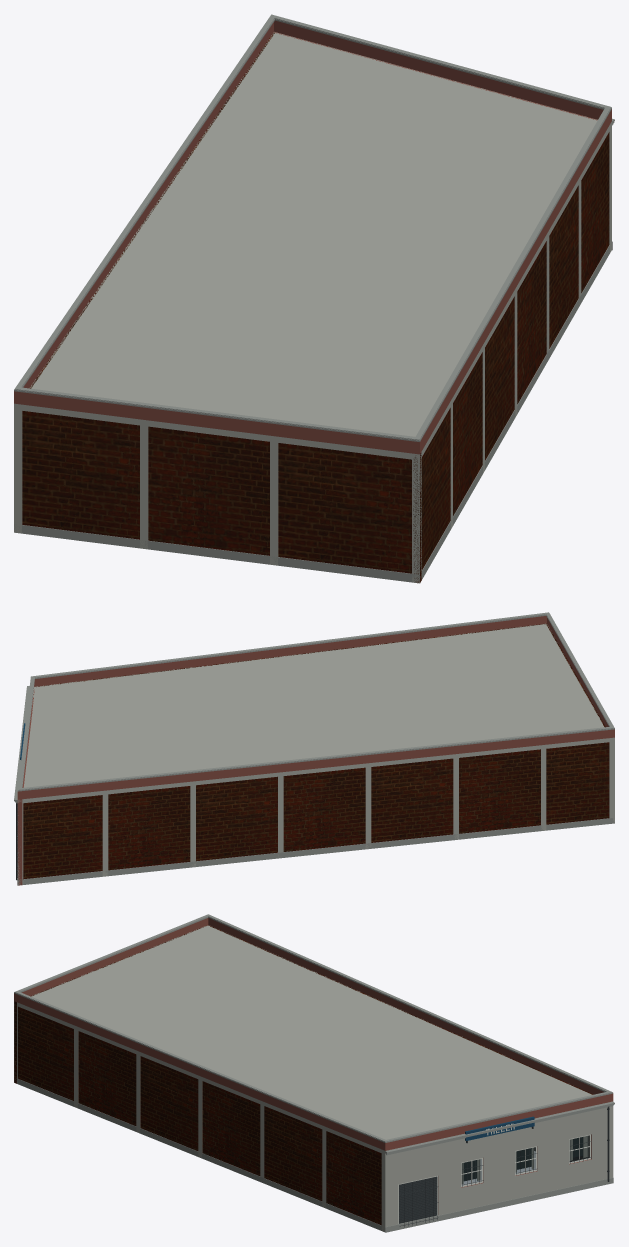
File: building.glb
The picture shows the model from 3 angles, top to bottom: view 1: azimuth 30°, elevation 25°; view 2: azimuth 150°, elevation 25°; view 3: azimuth 270°, elevation 25°; orthographic projection. The views are drawn at different scales.
Parts seen in each view (by area): view 1: roof/main:0/roof_slab#0001, main:0/edge0/z0/main:0/edge0/z0/wall_0_0/core0, main:0/edge1/z0/main:0/edge1/z0/wall_0_0/core0, roof/main:0/parapet#0001, roof/main:0/parapet_cap#0002, main:0/edge0/z0/plinth#0001, roof/main:0/parapet_cap#0001, main:0/edge0/z0/main:0/edge0/z0/beam_0_0/core0, main:0/edge1/z0/plinth#0001, main:0/edge1/z0/main:0/edge1/z0/beam_0_0/core0, main:0/edge0/z0/main:0/edge0/z0/column_0_0, main:0/edge0/z0/main:0/edge0/z0/column_3_0 (+3 smaller); view 2: roof/main:0/roof_slab#0001, main:0/edge3/z0/main:0/edge3/z0/wall_0_0/core0, roof/main:0/parapet#0001, roof/main:0/parapet_cap#0002, main:0/edge3/z0/plinth#0001, main:0/edge3/z0/main:0/edge3/z0/beam_0_0/core0, roof/main:0/parapet_cap#0001, main:0/edge3/z0/main:0/edge3/z0/column_2_0, main:0/edge3/z0/main:0/edge3/z0/column_5_0, main:0/edge3/z0/main:0/edge3/z0/column_7_0, main:0/edge3/z0/main:0/edge3/z0/column_6_0, main:0/edge3/z0/main:0/edge3/z0/column_3_0 (+3 smaller); view 3: roof/main:0/roof_slab#0001, main:0/edge1/z0/main:0/edge1/z0/wall_0_0/core0, roof/main:0/parapet#0001, main:0/edge2/z0/main:0/edge2/z0/coating_0_0_0/clip12, main:0/edge2/z0/main:0/edge2/z0/coating_0_0_0/clip2, roof/main:0/parapet_cap#0002, main:0/edge1/z0/plinth#0001, roof/main:0/parapet_cap#0001, main:0/edge1/z0/main:0/edge1/z0/beam_0_0/core0, main:0/edge2/z0/plinth#0001, main:0/edge2/z0/proj_cornice_00/cornice_drip#0001, main:0/edge2/z0/main:0/edge2/z0/coating_0_0_0/clip8 (+7 smaller).
Boxes of the visible parts, x1,y1,x2,y2 form: roof/main:0/roof_slab#0001: (14, 32, 611, 458); main:0/edge0/z0/main:0/edge0/z0/wall_0_0/core0: (22, 411, 411, 573); main:0/edge1/z0/main:0/edge1/z0/wall_0_0/core0: (422, 132, 609, 569); roof/main:0/parapet#0001: (14, 20, 611, 454); roof/main:0/parapet_cap#0002: (14, 14, 611, 440); main:0/edge0/z0/plinth#0001: (14, 524, 419, 582); roof/main:0/parapet_cap#0001: (14, 19, 611, 441); main:0/edge0/z0/main:0/edge0/z0/beam_0_0/core0: (14, 403, 419, 460); main:0/edge1/z0/plinth#0001: (419, 245, 609, 579); main:0/edge1/z0/main:0/edge1/z0/beam_0_0/core0: (420, 122, 611, 458); main:0/edge0/z0/main:0/edge0/z0/column_0_0: (14, 409, 22, 533); main:0/edge0/z0/main:0/edge0/z0/column_3_0: (270, 442, 278, 565); roof/main:0/roof_slab#0001: (18, 623, 613, 802); main:0/edge3/z0/main:0/edge3/z0/wall_0_0/core0: (23, 742, 609, 879); roof/main:0/parapet#0001: (17, 616, 614, 799); roof/main:0/parapet_cap#0002: (18, 612, 614, 790); main:0/edge3/z0/plinth#0001: (18, 818, 614, 884); main:0/edge3/z0/main:0/edge3/z0/beam_0_0/core0: (22, 737, 614, 803); roof/main:0/parapet_cap#0001: (17, 614, 614, 791); main:0/edge3/z0/main:0/edge3/z0/column_2_0: (102, 794, 108, 876); main:0/edge3/z0/main:0/edge3/z0/column_5_0: (365, 767, 371, 848); main:0/edge3/z0/main:0/edge3/z0/column_7_0: (541, 749, 546, 830); main:0/edge3/z0/main:0/edge3/z0/column_6_0: (453, 758, 458, 839); main:0/edge3/z0/main:0/edge3/z0/column_3_0: (190, 785, 195, 867); roof/main:0/roof_slab#0001: (31, 925, 592, 1152); main:0/edge1/z0/main:0/edge1/z0/wall_0_0/core0: (18, 1006, 381, 1225); roof/main:0/parapet#0001: (14, 918, 613, 1150); main:0/edge2/z0/main:0/edge2/z0/coating_0_0_0/clip12: (385, 1101, 613, 1178); main:0/edge2/z0/main:0/edge2/z0/coating_0_0_0/clip2: (438, 1155, 613, 1215); roof/main:0/parapet_cap#0002: (14, 914, 612, 1141); main:0/edge1/z0/plinth#0001: (16, 1079, 384, 1231); roof/main:0/parapet_cap#0001: (14, 916, 613, 1142); main:0/edge1/z0/main:0/edge1/z0/beam_0_0/core0: (14, 1002, 385, 1154); main:0/edge2/z0/plinth#0001: (385, 1177, 613, 1232); main:0/edge2/z0/proj_cornice_00/cornice_drip#0001: (385, 1101, 614, 1153); main:0/edge2/z0/main:0/edge2/z0/coating_0_0_0/clip8: (385, 1162, 460, 1186).
Bounding box in the file's own units: 25.28 × 4.67 × 28.01.
10 materials, 1 textured.
